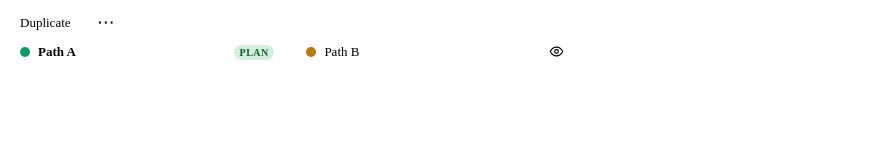
ScenarioBar › starts a new scenario as a copy of the open one and opens it
Click the button with aria-label "Duplicate Path A as a new scenario": click(45, 23) [8,9,82,38]
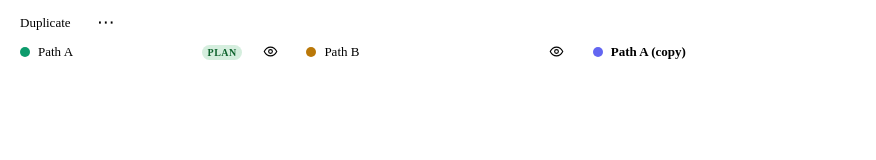
Result: the number of tabs is 3 at [8,38,254,65]; [294,38,541,65]; [581,38,859,65]
